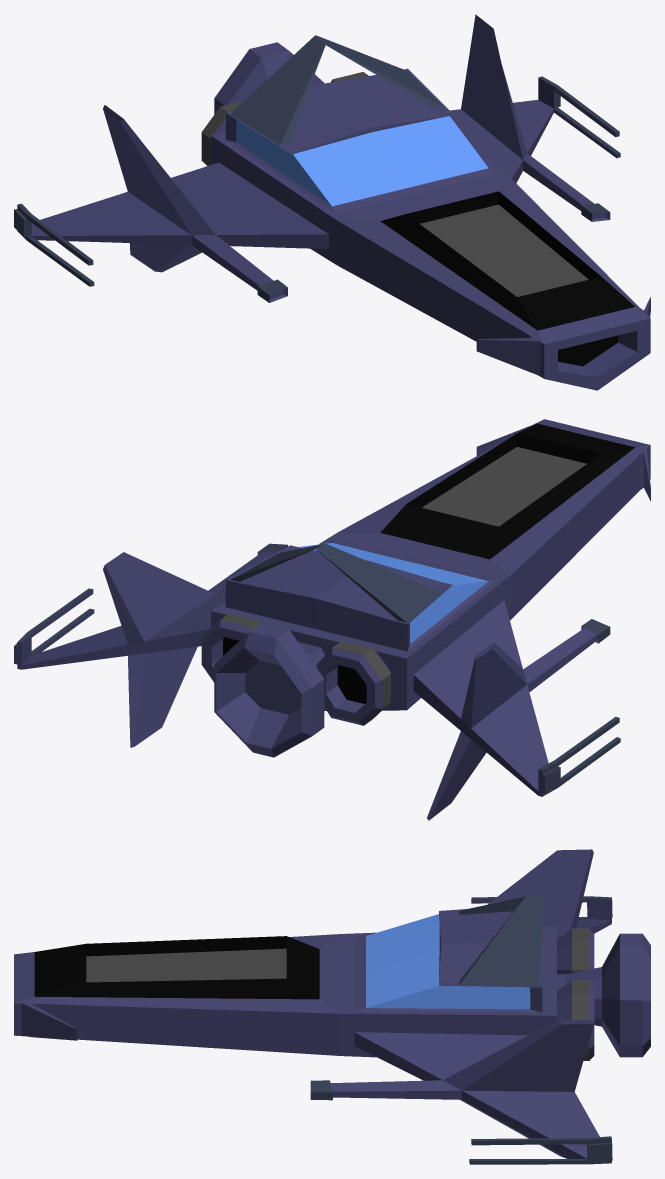
Rendered from NebulaDrifter999.glb.
3 renders of one model, top to bottom at view 1: azimuth 30°, elevation 25°; view 2: azimuth 150°, elevation 25°; view 3: azimuth 270°, elevation 25°, orthographic. The views are drawn at different scales.
Visible parts, largest first — view 1: NebulaDrifter999; view 2: NebulaDrifter999; view 3: NebulaDrifter999.
Boxes of the visible parts, box(x1,y1,x2,y2) form: NebulaDrifter999: box(14, 14, 650, 390); NebulaDrifter999: box(14, 419, 650, 820); NebulaDrifter999: box(14, 849, 650, 1164).
Bounding box in the file's own units: 14.43 × 5.37 × 15.76.
1 material, 1 textured.
